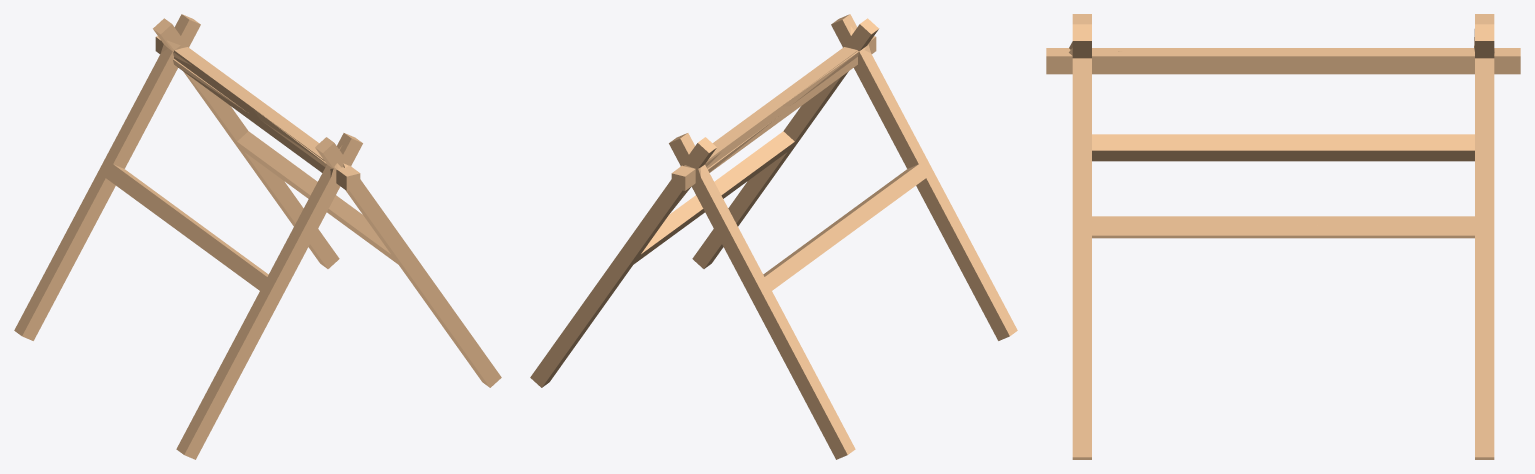
The model's file is crackedTent.dae.
3 renders of one model, left to right at view 1: azimuth 30°, elevation 25°; view 2: azimuth 150°, elevation 25°; view 3: azimuth 270°, elevation 25°, orthographic. The views are drawn at different scales.
Parts seen in each view (by area): view 1: tent, tent_cell.043, tent_cell.014, tent_cell.003, tent_cell.022, tent_cell.032, tent_cell.063; view 2: tent, tent_cell.043, tent_cell.014, tent_cell.003, tent_cell.011, tent_cell.022, tent_cell.032, tent_cell.018, tent_cell.042, tent_cell.063, tent_cell.047; view 3: tent, tent_cell.034, tent_cell.011, tent_cell.050, tent_cell.003, tent_cell.058, tent_cell.006, tent_cell.025, tent_cell.022, tent_cell.002, tent_cell.054, tent_cell.036.
Part boxes in pixels (left/top/right/bottom): tent: left=14, top=14, right=501, bottom=459; tent_cell.043: left=17, top=115, right=189, bottom=337; tent_cell.014: left=183, top=221, right=297, bottom=374; tent_cell.003: left=233, top=141, right=339, bottom=268; tent_cell.022: left=208, top=102, right=316, bottom=196; tent_cell.032: left=251, top=107, right=330, bottom=172; tent_cell.063: left=164, top=59, right=250, bottom=120; tent: left=577, top=14, right=1013, bottom=454; tent_cell.043: left=723, top=221, right=851, bottom=457; tent_cell.014: left=842, top=115, right=974, bottom=258; tent_cell.003: left=530, top=214, right=699, bottom=387; tent_cell.011: left=715, top=97, right=815, bottom=187; tent_cell.022: left=630, top=197, right=703, bottom=264; tent_cell.032: left=781, top=41, right=867, bottom=112; tent_cell.018: left=794, top=378, right=841, bottom=459; tent_cell.042: left=741, top=152, right=786, bottom=209; tent_cell.063: left=707, top=115, right=780, bottom=188; tent_cell.047: left=694, top=204, right=749, bottom=268; tent: left=1046, top=14, right=1520, bottom=459; tent_cell.034: left=1072, top=226, right=1277, bottom=346; tent_cell.011: left=1072, top=144, right=1280, bottom=225; tent_cell.050: left=1284, top=53, right=1474, bottom=67; tent_cell.003: left=1290, top=226, right=1493, bottom=459; tent_cell.058: left=1476, top=346, right=1494, bottom=459; tent_cell.006: left=1284, top=69, right=1483, bottom=139; tent_cell.025: left=1072, top=346, right=1091, bottom=457; tent_cell.022: left=1393, top=141, right=1494, bottom=225; tent_cell.002: left=1092, top=59, right=1282, bottom=64; tent_cell.054: left=1060, top=66, right=1081, bottom=144; tent_cell.036: left=1092, top=52, right=1281, bottom=55.
Size of the model in its own units: 0.5392 by 0.5623 by 0.4598.
